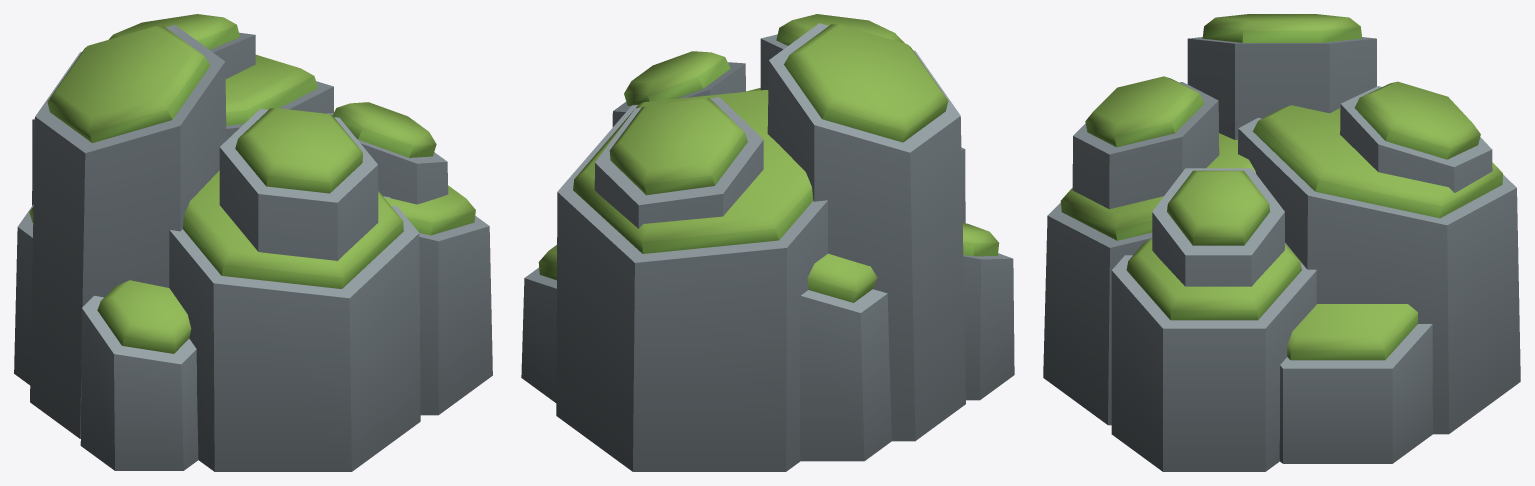
File: mountain_C_grass.glb
3 renders of one model, left to right at view 1: azimuth 30°, elevation 25°; view 2: azimuth 150°, elevation 25°; view 3: azimuth 270°, elevation 25°, orthographic. The views are drawn at different scales.
Visible parts, largest first — view 1: mountain_C_grass; view 2: mountain_C_grass; view 3: mountain_C_grass.
Boxes of the visible parts, <box> form: mountain_C_grass: <box>14,14,492,471</box>; mountain_C_grass: <box>521,14,1014,471</box>; mountain_C_grass: <box>1043,14,1520,471</box>.
Size of the model in its own units: 1.76 by 1.55 by 2.02.
1 material, 1 textured.
